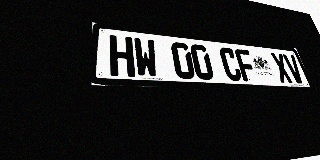0: (170, 42, 196, 79), (189, 44, 215, 80)
C: (218, 47, 243, 81)
F: (234, 49, 259, 82)
H: (109, 35, 135, 77)
V: (282, 54, 306, 84)
W: (133, 37, 159, 78)
X: (270, 53, 294, 83)
